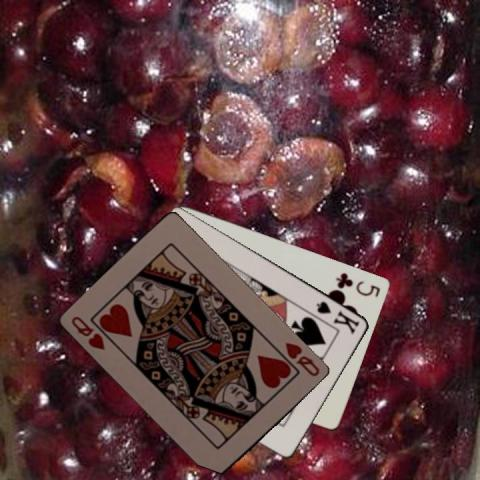5c: (333, 269, 382, 299)
Ks: (314, 298, 362, 335)
Qh: (282, 339, 321, 378), (69, 313, 107, 351)
